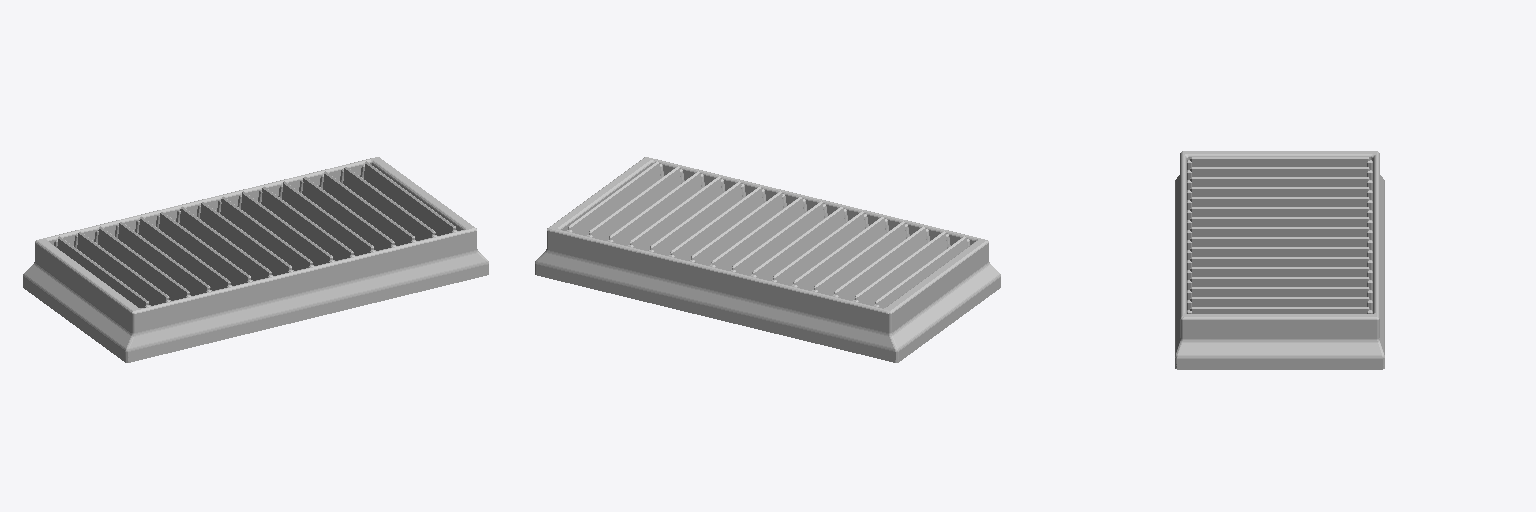
File: Vent_vert_large_001.obj
The picture shows the model from 3 angles: view 1: azimuth 30°, elevation 25°; view 2: azimuth 150°, elevation 25°; view 3: azimuth 270°, elevation 25°; orthographic projection.
Visible parts, largest first — view 1: Vent_vert_large_001; view 2: Vent_vert_large_001; view 3: Vent_vert_large_001.
Boxes of the visible parts, x1=… form: Vent_vert_large_001: x1=23, y1=157, x2=488, y2=362; Vent_vert_large_001: x1=535, y1=157, x2=1000, y2=362; Vent_vert_large_001: x1=1175, y1=151, x2=1384, y2=369.
Size of the model in its own units: 356 by 46.15 by 178.